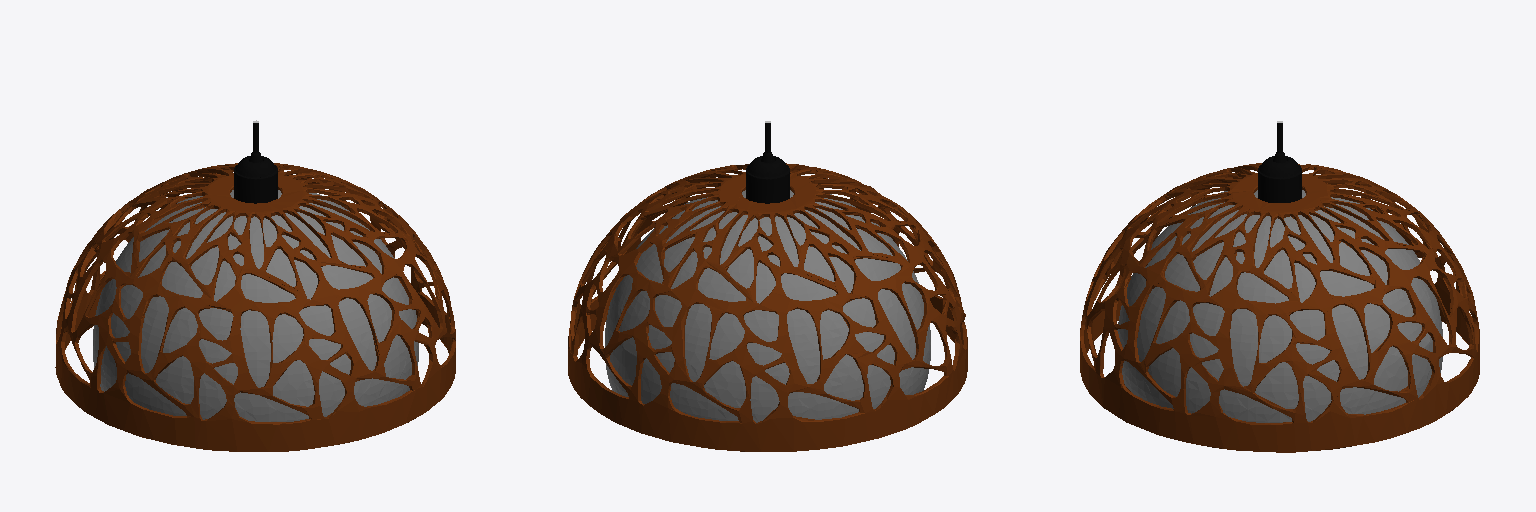
The model's file is lamp-q499.obj.
3 renders of one model, left to right at view 1: azimuth 30°, elevation 25°; view 2: azimuth 150°, elevation 25°; view 3: azimuth 270°, elevation 25°, orthographic.
Bounding box in the file's own units: 1.78 × 1.32 × 1.78.